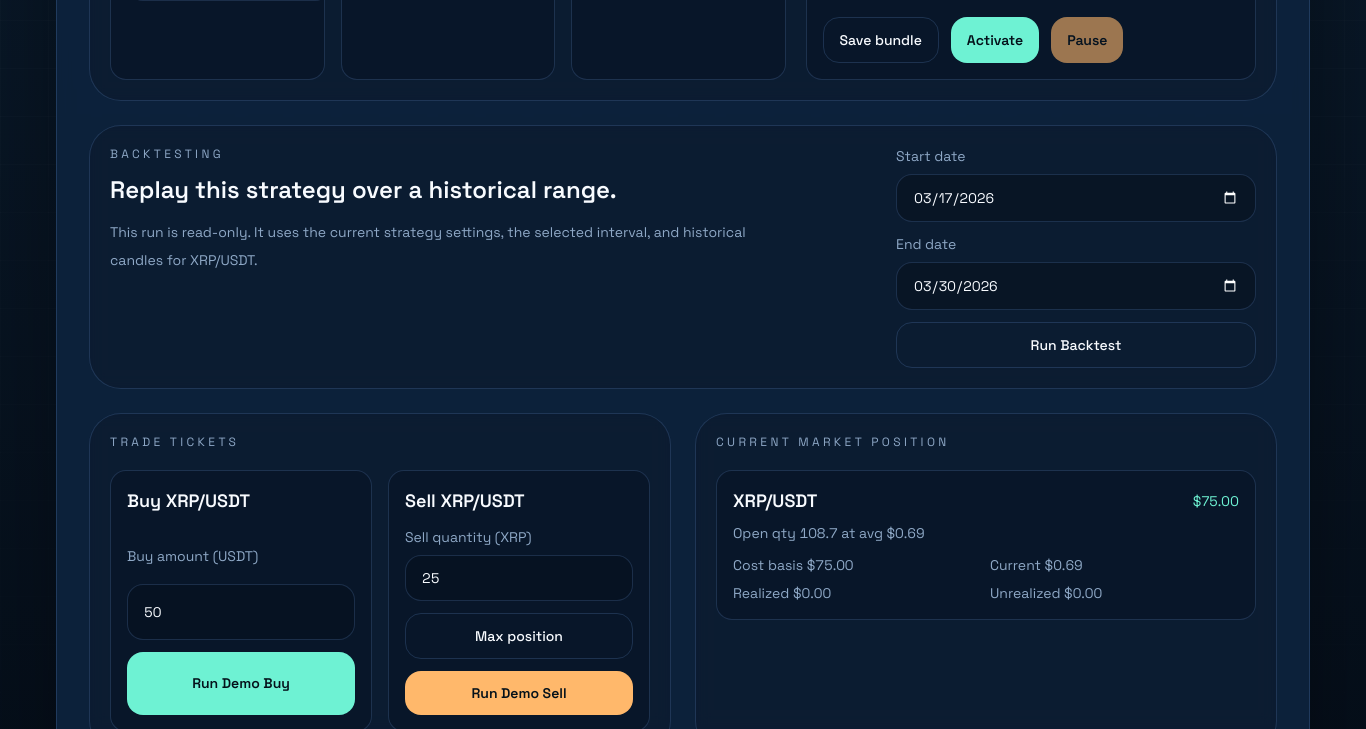
Scenario: Hero › runs a read-only backtest from the market detail screen
The image size is (1366, 729).
(page scrolled)
Click the button "Run Backtest".
click(1076, 345)  # box top-left (896, 322), bottom-right (1256, 368)
(page scrolled)
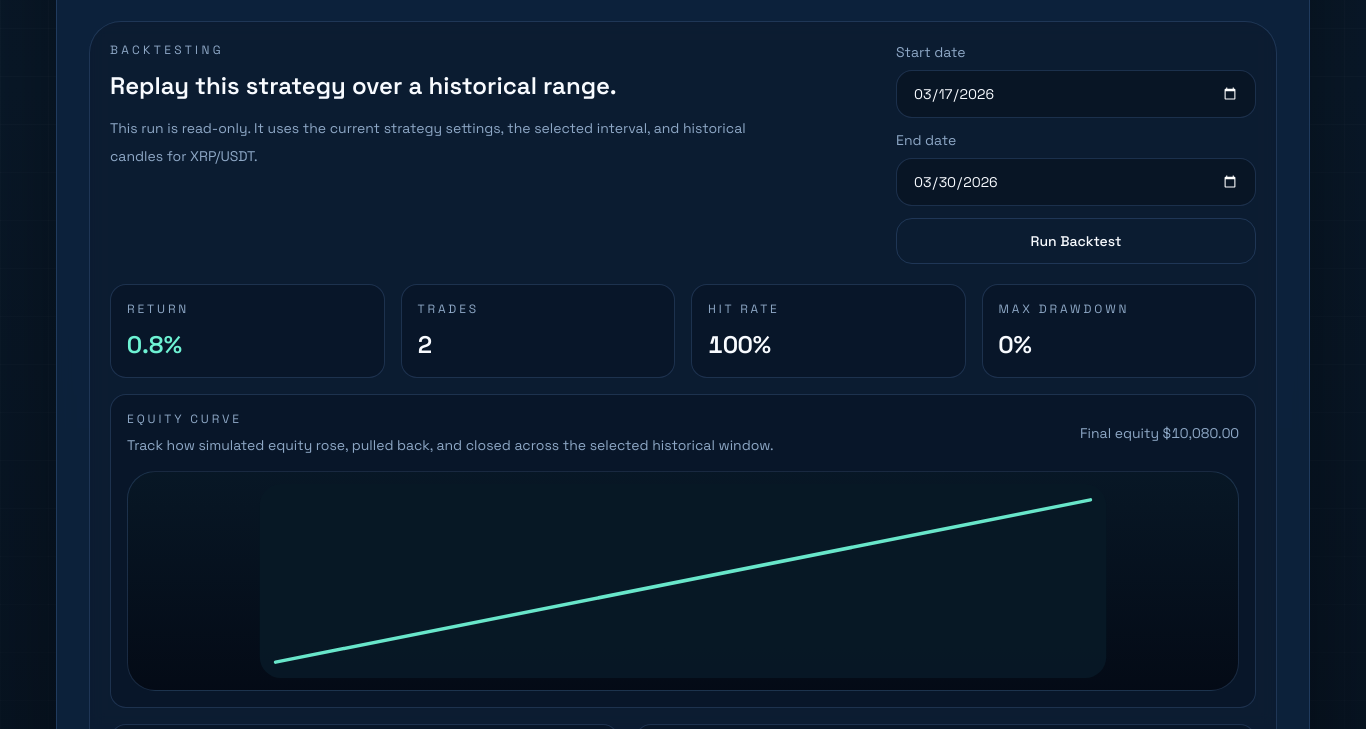
Now the text "100%" is shown, box top-left (708, 329), bottom-right (771, 360)
